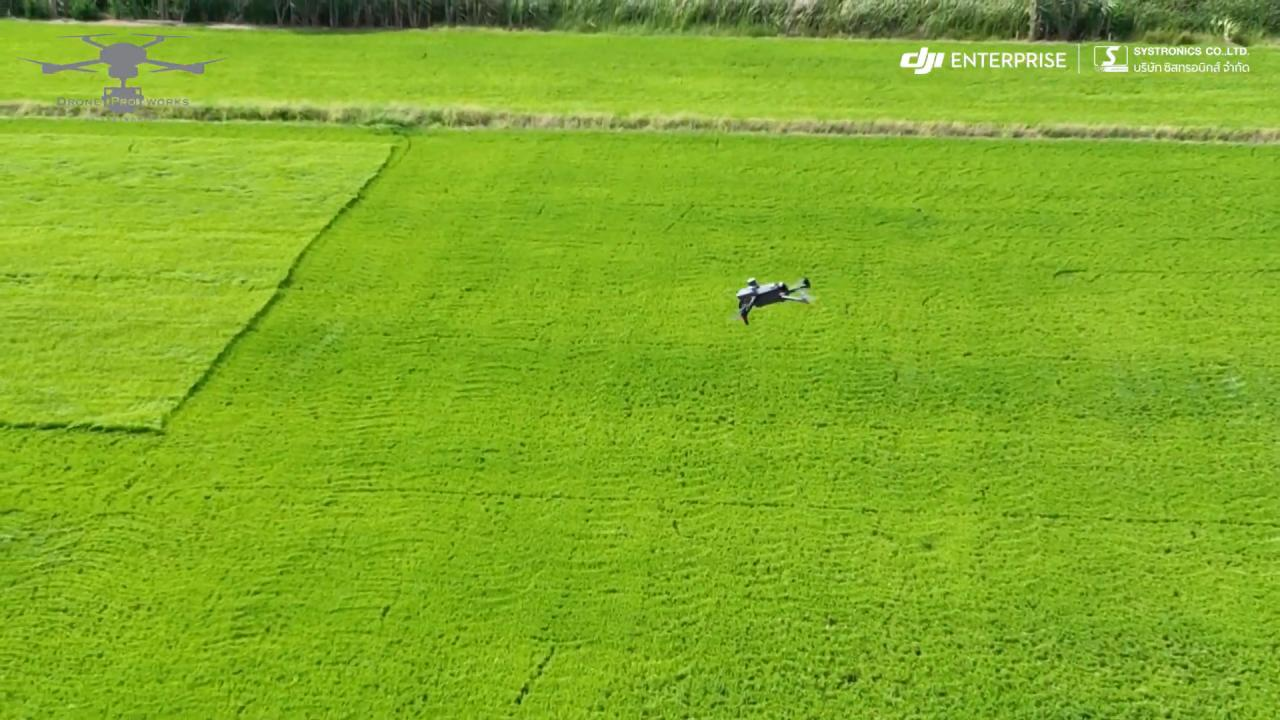Drone: (712, 263, 834, 336)
